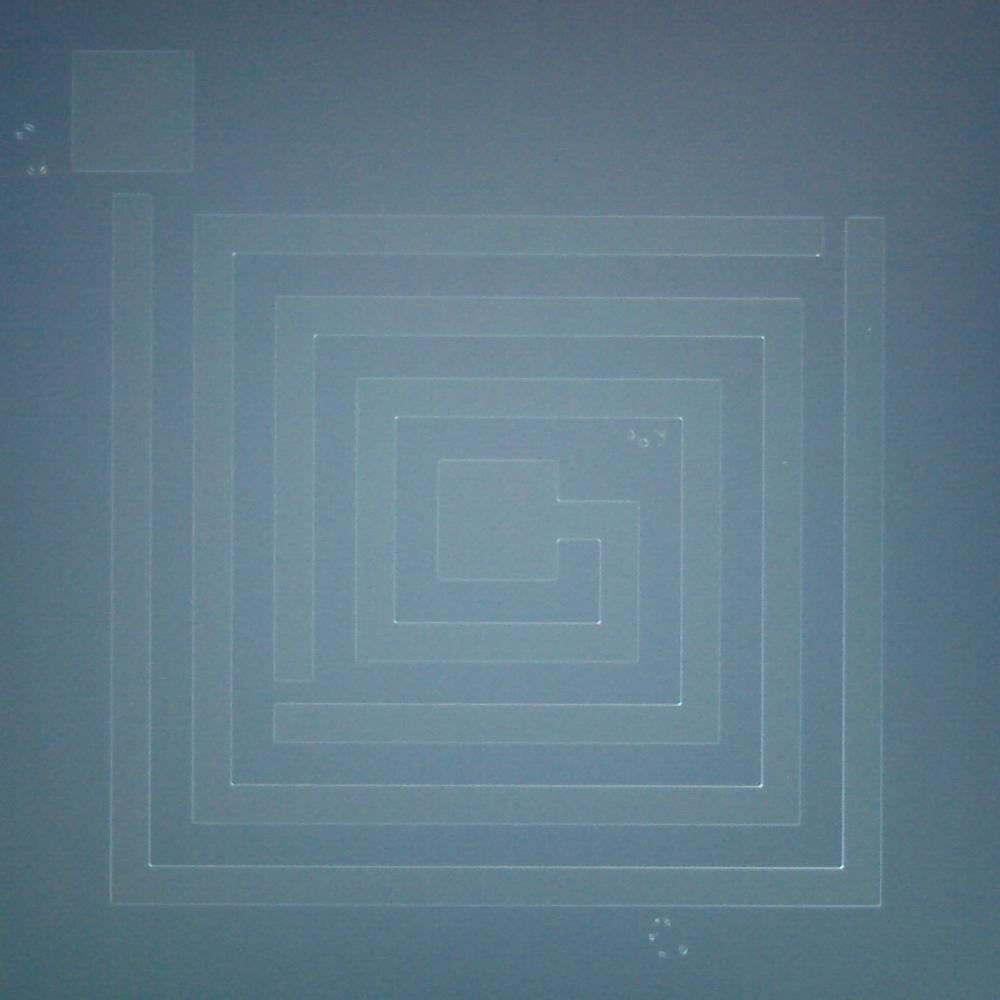dot: (38, 166, 48, 176), (647, 933, 655, 942), (16, 132, 24, 140), (654, 918, 660, 922), (816, 253, 820, 257), (868, 328, 872, 332), (782, 460, 786, 464)
